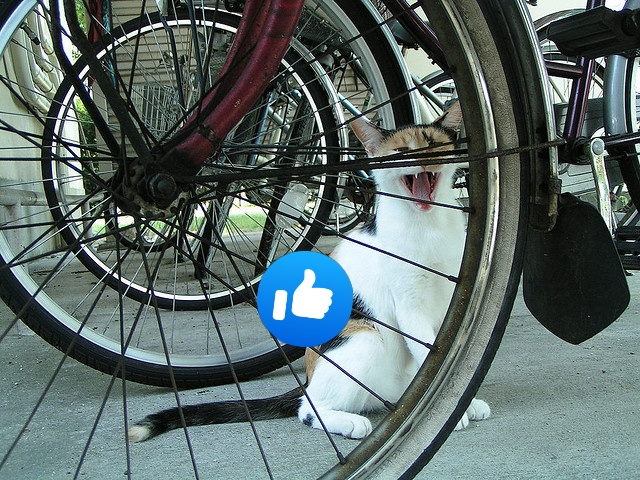like: (257, 251, 353, 347)
